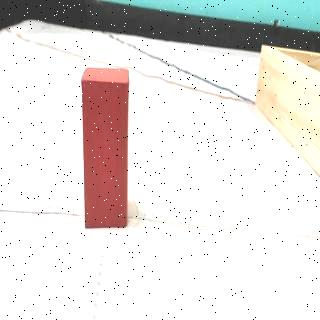redbox: (82, 65, 128, 228)
